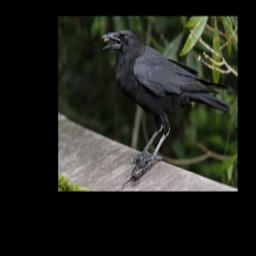Crow: (102, 29, 232, 171)
